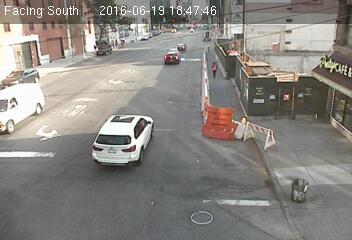neg: (145, 58, 176, 100), (93, 63, 117, 95)
pos: (205, 54, 224, 78)
